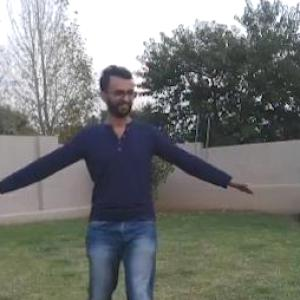land: (1, 45, 268, 299)
